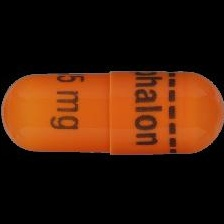50090-1101: (0, 0, 224, 224)
